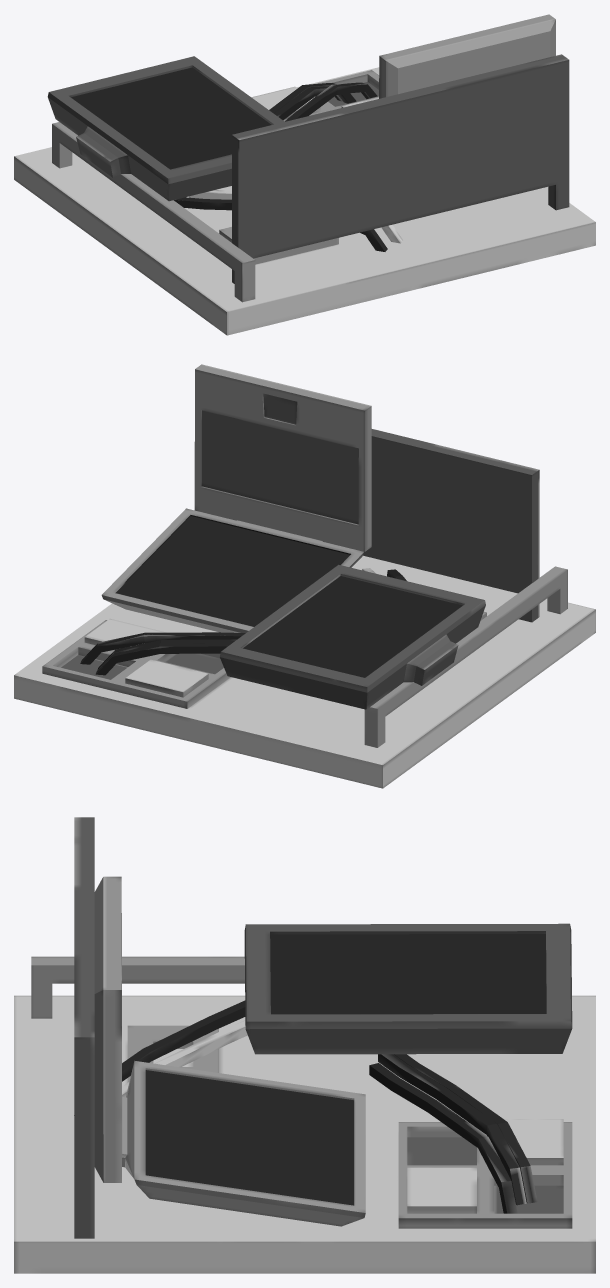
The model's file is Laptops_A.fbx.
3 renders of one model, top to bottom at view 1: azimuth 30°, elevation 25°; view 2: azimuth 150°, elevation 25°; view 3: azimuth 270°, elevation 25°, orthographic. The views are drawn at different scales.
Visible parts, largest first — view 1: Laptops_A; view 2: Laptops_A; view 3: Laptops_A.
Boxes of the visible parts, x1,y1,x2,y2 form: Laptops_A: (14,14,595,335); Laptops_A: (14,364,595,788); Laptops_A: (14,817,595,1273).
Bounding box in the file's own units: 200 × 106 × 200.
